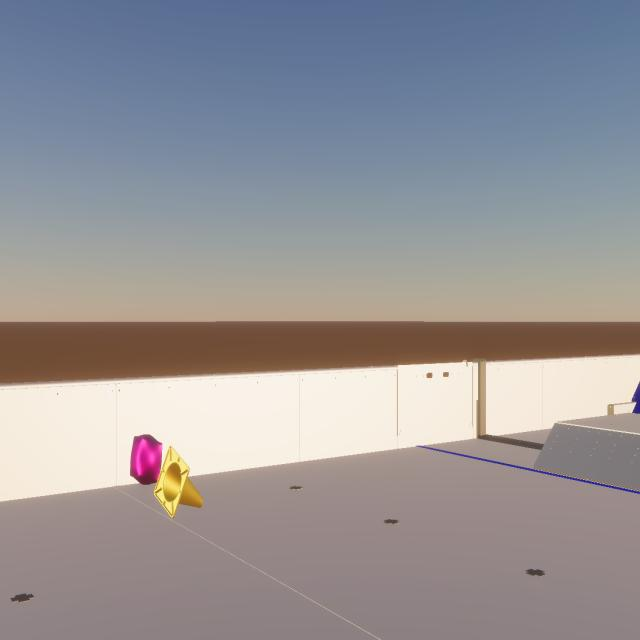frc_cone: (154, 445, 203, 518)
frc_cube: (130, 434, 162, 485)
